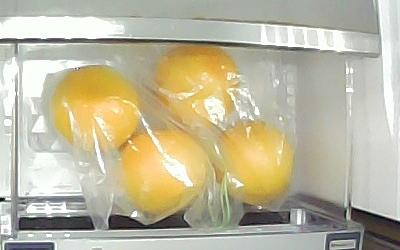grapefruit_vinyl: (51, 66, 139, 152), (155, 45, 241, 130), (120, 131, 209, 211), (212, 122, 295, 203)
